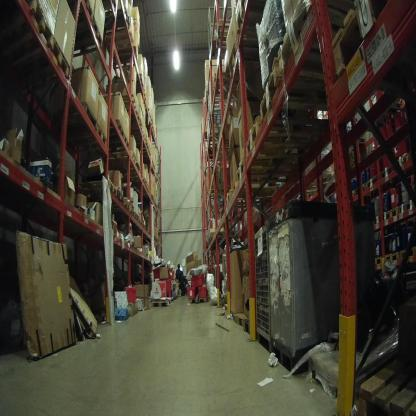pallet: (256, 55, 352, 122), (324, 0, 403, 80), (2, 35, 79, 113), (279, 6, 353, 76), (1, 2, 62, 67), (245, 114, 322, 165), (51, 17, 109, 66), (236, 151, 298, 183), (49, 103, 97, 141), (234, 2, 284, 38), (224, 185, 276, 214), (227, 46, 276, 76), (59, 126, 110, 154), (76, 174, 116, 203), (229, 178, 280, 200), (98, 5, 132, 32), (211, 74, 246, 99), (215, 16, 238, 54), (95, 116, 123, 145), (62, 1, 95, 24), (108, 45, 139, 68), (106, 30, 138, 49), (109, 135, 132, 158), (112, 150, 139, 166), (380, 161, 396, 187), (397, 148, 414, 172), (116, 95, 138, 113), (382, 247, 398, 268), (365, 172, 380, 193), (242, 312, 255, 336), (190, 294, 214, 306), (398, 199, 416, 215), (352, 180, 367, 199), (400, 243, 415, 261), (382, 206, 397, 223), (149, 298, 172, 309), (116, 185, 124, 210), (372, 209, 383, 227), (373, 254, 384, 271), (230, 305, 238, 324), (237, 307, 245, 326), (122, 199, 132, 212), (128, 206, 135, 221), (129, 199, 136, 209), (141, 221, 148, 231), (138, 213, 142, 228), (135, 212, 139, 225)
small_load_carrier: (190, 273, 207, 289), (124, 287, 139, 304), (161, 278, 175, 294), (184, 285, 197, 300), (198, 283, 209, 299), (167, 264, 176, 279), (152, 267, 161, 278)
stillage: (250, 220, 275, 359), (204, 5, 242, 62)
